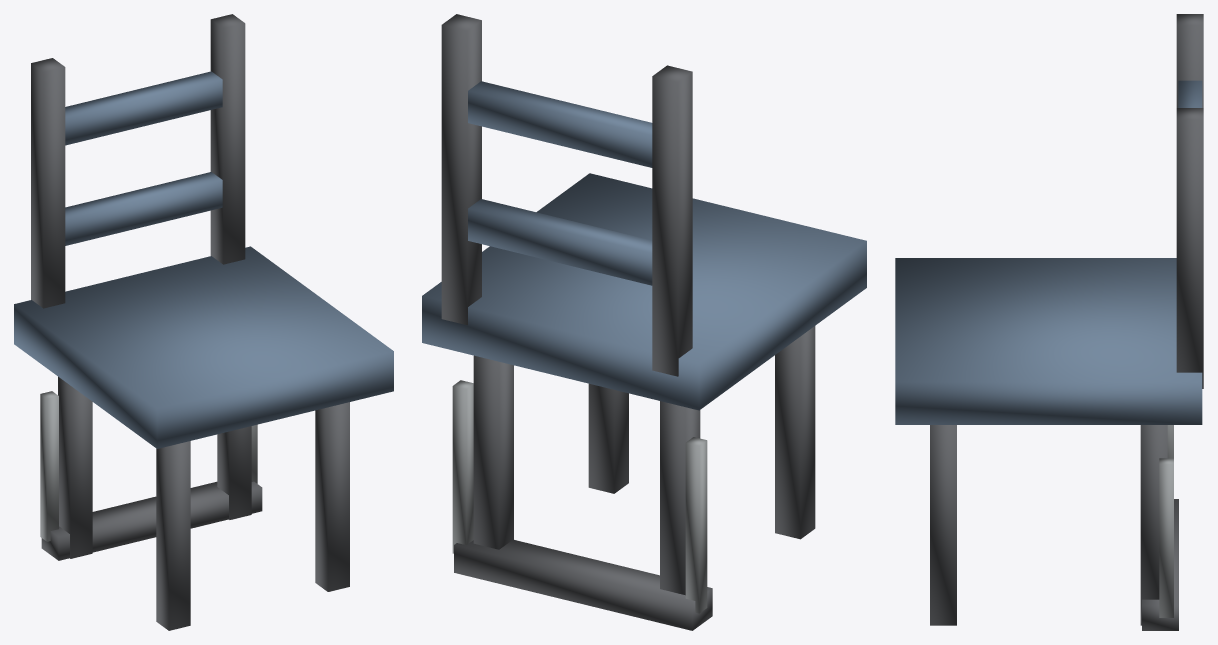
Rendered from courtroom_spectator_chair__reinforced.glb.
3 renders of one model, left to right at view 1: azimuth 30°, elevation 25°; view 2: azimuth 150°, elevation 25°; view 3: azimuth 270°, elevation 25°, orthographic. The views are drawn at different scales.
Parts seen in each view (by area): view 1: world; view 2: world; view 3: world.
Part boxes in pixels (x1,y1,x2,y2): world: [14, 14, 393, 630]; world: [422, 14, 866, 630]; world: [895, 14, 1203, 630].
Size of the model in its own units: 0.5026 by 0.968 by 0.529.
